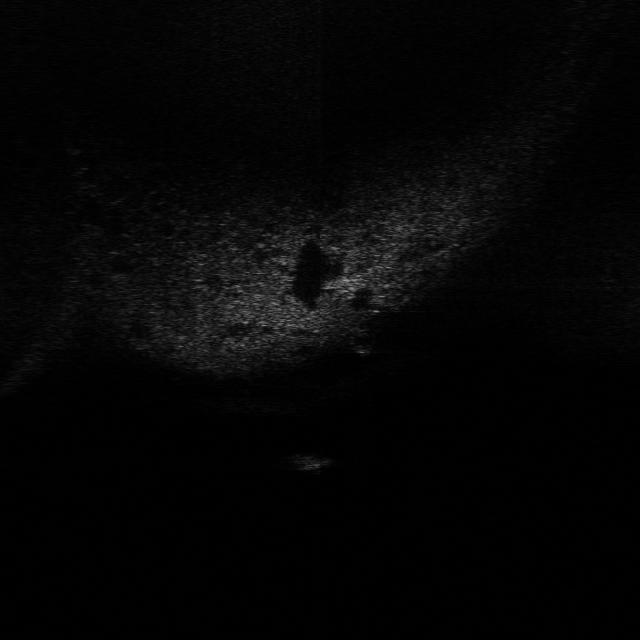ball: (346, 321, 378, 357)
cube: (276, 451, 336, 474)
